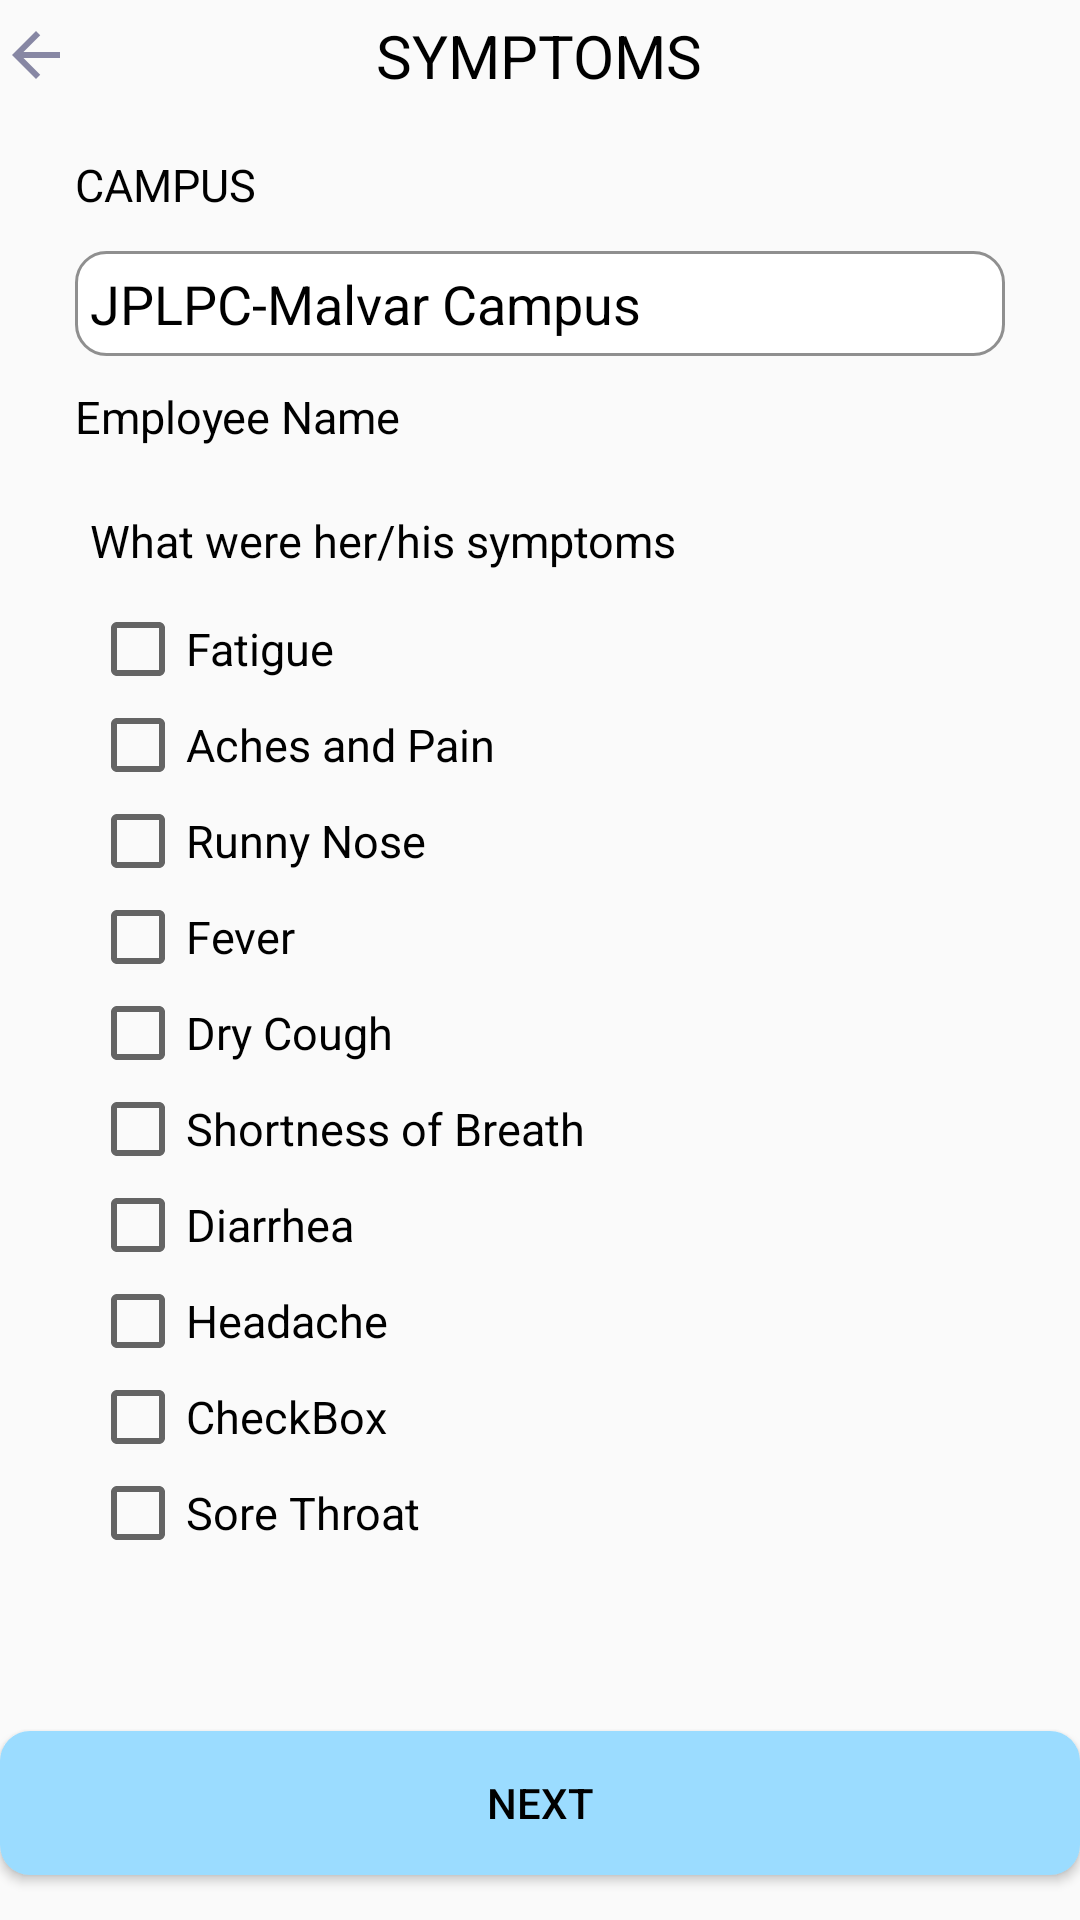

Named icons in this screenshot (1080 × 1920) and their bounding boxes, [left=x1, top=y1, right=x2, bottom=y2]:
back: [left=12, top=31, right=60, bottom=79]
